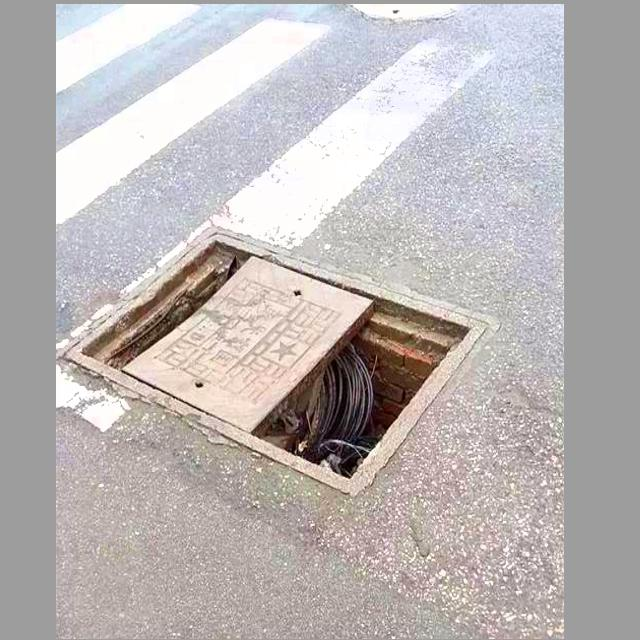lose: (62, 205, 492, 510)
